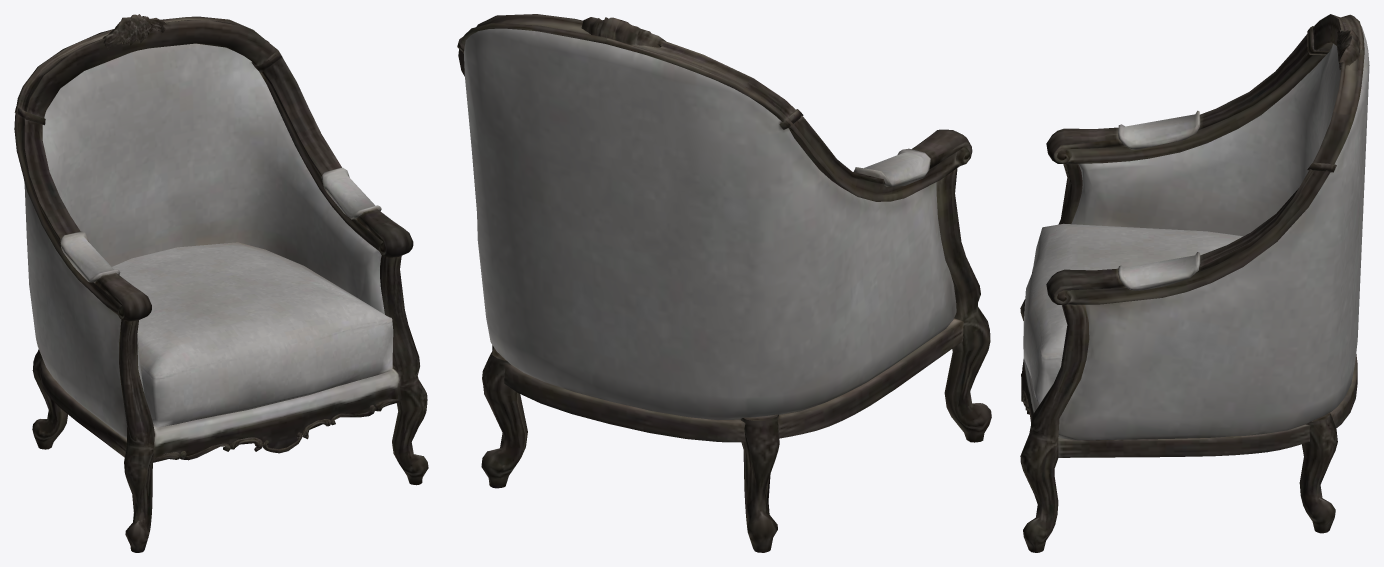
File: lib_armchair_aaa-4801f5011499.glb
3 views of the same model, side by side, from view 1: azimuth 30°, elevation 25°; view 2: azimuth 150°, elevation 25°; view 3: azimuth 270°, elevation 25° (orthographic). The views are drawn at different scales.
Parts seen in each view (by area): view 1: ArmChair_01; view 2: ArmChair_01; view 3: ArmChair_01.
Part boxes in pixels (x1,y1,x2,y2): ArmChair_01: [14, 14, 428, 552]; ArmChair_01: [457, 14, 991, 552]; ArmChair_01: [1020, 14, 1369, 552].
Bounding box in the file's own units: 0.7646 × 0.9599 × 0.6902.
1 material, 1 textured.
